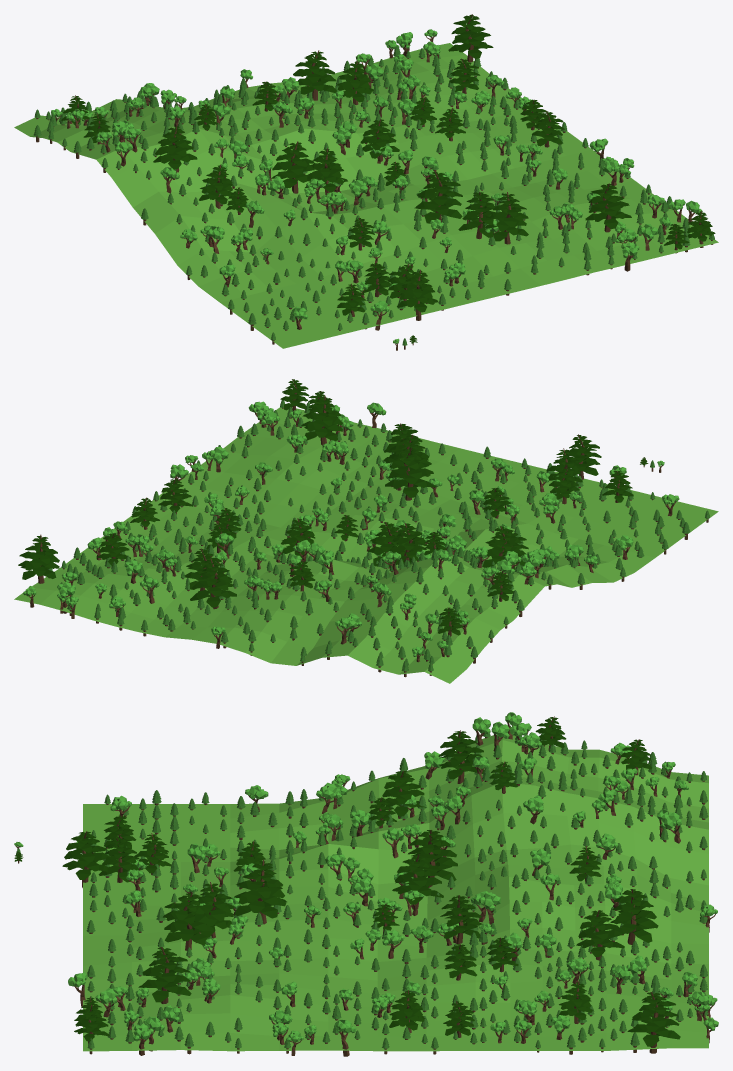
Rendered from TreesV4(Procedural Generation Testing).fbx.
3 renders of one model, top to bottom at view 1: azimuth 30°, elevation 25°; view 2: azimuth 150°, elevation 25°; view 3: azimuth 270°, elevation 25°, orthographic. The views are drawn at different scales.
Parts seen in each view (by area): view 1: Plane, Plane|Tree 3|Dupli|10.2, Plane|Tree 3|Dupli|14.2, Plane|Tree 3|Dupli|27.2, Plane|Tree 3|Dupli|1.2, Plane|Tree 3|Dupli|16.2, Plane|Tree 3|Dupli|29.2, Plane|Tree 3|Dupli|0.2, Plane|Tree 3|Dupli|7.2, Plane|Tree 3|Dupli|12.2, Plane|Tree 3|Dupli|9.2, Plane|Tree 3|Dupli|24.2 (+9 smaller); view 2: Plane, Plane|Tree 3|Dupli|10.2, Plane|Tree 3|Dupli|27.2, Plane|Tree 3|Dupli|16.2, Plane|Tree 3|Dupli|29.2, Plane|Tree 3|Dupli|1.2, Plane|Tree 3|Dupli|7.2, Plane|Tree 3|Dupli|0.2, Plane|Tree 3|Dupli|9.2, Plane|Tree 3|Dupli|13.2, Plane|Tree 3|Dupli|18.2, Plane|Tree 3|Dupli|25.2 (+11 smaller); view 3: Plane, Plane|Tree 3|Dupli|10.2, Plane|Tree 3|Dupli|14.2, Plane|Tree 3|Dupli|16.2, Plane|Tree 3|Dupli|27.2, Plane|Tree 3|Dupli|29.2, Plane|Tree 3|Dupli|9.2, Plane|Tree 3|Dupli|7.2, Plane|Tree 3|Dupli|1.2, Plane|Tree 3|Dupli|0.2, Plane|Tree 3|Dupli|24.2, Plane|Tree 3|Dupli|12.2 (+14 smaller).
Boxes of the visible parts, left/top/right/bottom form: Plane: left=14, top=43, right=718, bottom=348; Plane|Tree 3|Dupli|10.2: left=414, top=171, right=462, bottom=223; Plane|Tree 3|Dupli|14.2: left=485, top=192, right=528, bottom=244; Plane|Tree 3|Dupli|27.2: left=293, top=50, right=337, bottom=100; Plane|Tree 3|Dupli|1.2: left=271, top=141, right=314, bottom=193; Plane|Tree 3|Dupli|16.2: left=585, top=183, right=631, bottom=232; Plane|Tree 3|Dupli|29.2: left=448, top=14, right=493, bottom=62; Plane|Tree 3|Dupli|0.2: left=153, top=126, right=197, bottom=172; Plane|Tree 3|Dupli|7.2: left=397, top=269, right=438, bottom=320; Plane|Tree 3|Dupli|12.2: left=458, top=192, right=497, bottom=239; Plane|Tree 3|Dupli|9.2: left=305, top=148, right=347, bottom=195; Plane|Tree 3|Dupli|24.2: left=337, top=61, right=373, bottom=104; Plane: left=14, top=407, right=718, bottom=683; Plane|Tree 3|Dupli|10.2: left=385, top=448, right=436, bottom=500; Plane|Tree 3|Dupli|27.2: left=190, top=558, right=236, bottom=609; Plane|Tree 3|Dupli|16.2: left=301, top=395, right=342, bottom=445; Plane|Tree 3|Dupli|29.2: left=18, top=534, right=59, bottom=583; Plane|Tree 3|Dupli|1.2: left=388, top=523, right=426, bottom=566; Plane|Tree 3|Dupli|7.2: left=567, top=434, right=601, bottom=479; Plane|Tree 3|Dupli|0.2: left=482, top=526, right=521, bottom=569; Plane|Tree 3|Dupli|9.2: left=368, top=522, right=404, bottom=568; Plane|Tree 3|Dupli|13.2: left=281, top=518, right=315, bottom=559; Plane|Tree 3|Dupli|18.2: left=158, top=478, right=193, bottom=514; Plane|Tree 3|Dupli|25.2: left=97, top=533, right=130, bottom=567; Plane: left=83, top=734, right=708, bottom=1051; Plane|Tree 3|Dupli|10.2: left=234, top=859, right=286, bottom=924; Plane|Tree 3|Dupli|14.2: left=163, top=892, right=213, bottom=950; Plane|Tree 3|Dupli|16.2: left=138, top=947, right=191, bottom=1003; Plane|Tree 3|Dupli|27.2: left=610, top=889, right=658, bottom=944; Plane|Tree 3|Dupli|29.2: left=627, top=992, right=680, bottom=1053; Plane|Tree 3|Dupli|9.2: left=392, top=854, right=443, bottom=909; Plane|Tree 3|Dupli|7.2: left=62, top=831, right=109, bottom=887; Plane|Tree 3|Dupli|1.2: left=408, top=830, right=457, bottom=887; Plane|Tree 3|Dupli|0.2: left=438, top=730, right=484, bottom=783; Plane|Tree 3|Dupli|24.2: left=576, top=910, right=624, bottom=960; Plane|Tree 3|Dupli|12.2: left=194, top=882, right=234, bottom=938.
Bounding box in the file's own units: 91.37 × 18.29 × 104.
